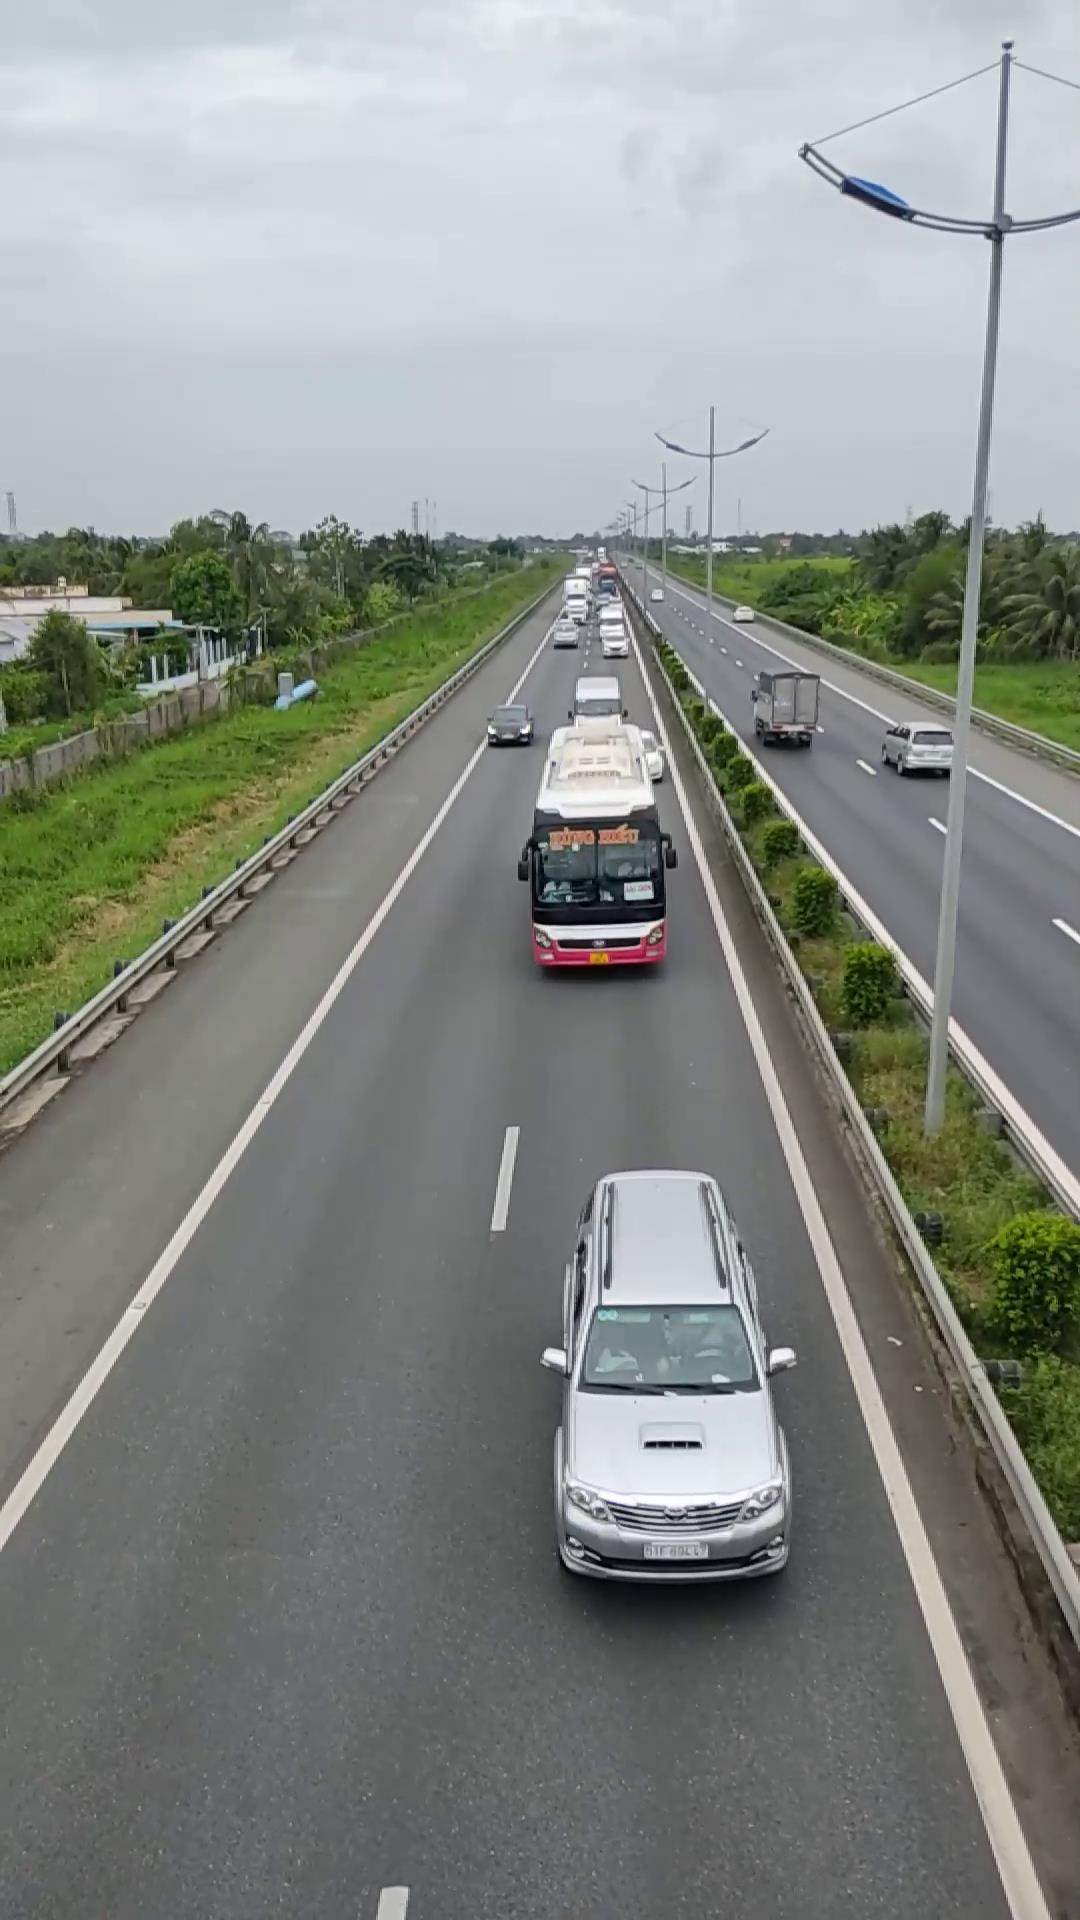bus: (517, 721, 674, 972)
car: (545, 1164, 794, 1584)
truck: (750, 663, 822, 747)
